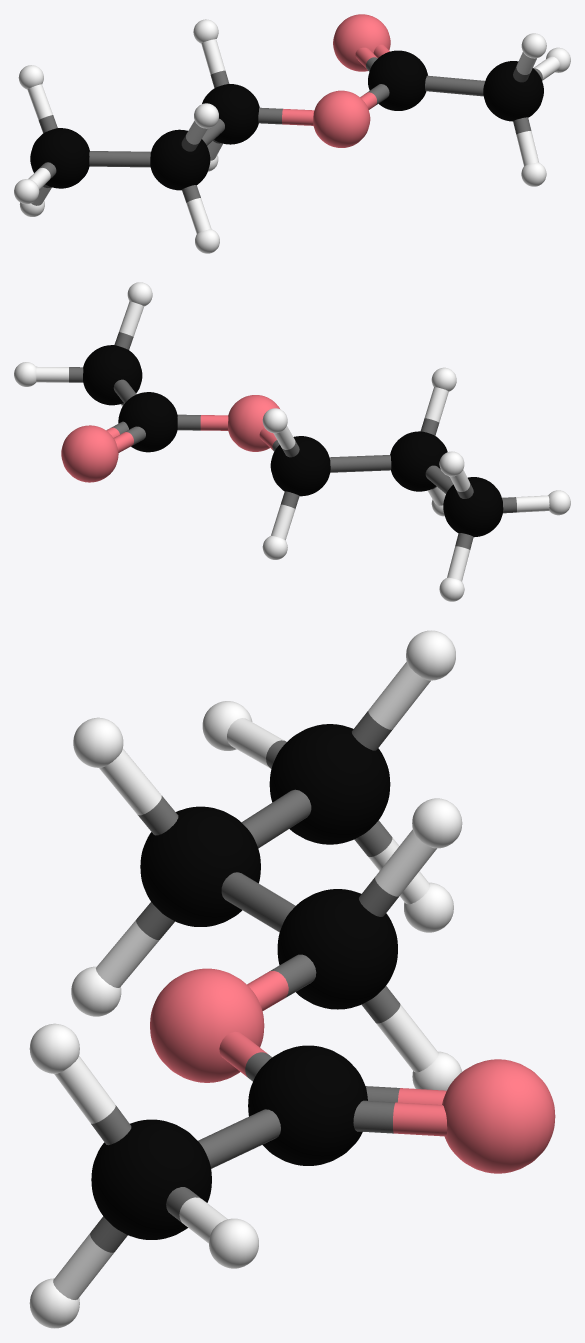
Rendered from propyl_ethanoate.glb.
3 views of the same model, one above another, from view 1: azimuth 30°, elevation 25°; view 2: azimuth 150°, elevation 25°; view 3: azimuth 270°, elevation 25° (orthographic). The views are drawn at different scales.
Parts seen in each view (by area): view 1: Hydrogen_ball.004, Hydrogen_sticks_cylinder.037; view 2: Hydrogen_ball.004, Hydrogen_sticks_cylinder.037; view 3: Hydrogen_ball.004, Hydrogen_sticks_cylinder.037.
Part boxes in pixels (x1,y1,x2,y2): Hydrogen_ball.004: (14,14,570,253); Hydrogen_sticks_cylinder.037: (27,39,559,233); Hydrogen_ball.004: (14,282,570,601); Hydrogen_sticks_cylinder.037: (36,301,549,581); Hydrogen_ball.004: (29,630,555,1328); Hydrogen_sticks_cylinder.037: (53,662,447,1299).
Bounding box in the file's own units: 8.14 × 2.12 × 3.36.
